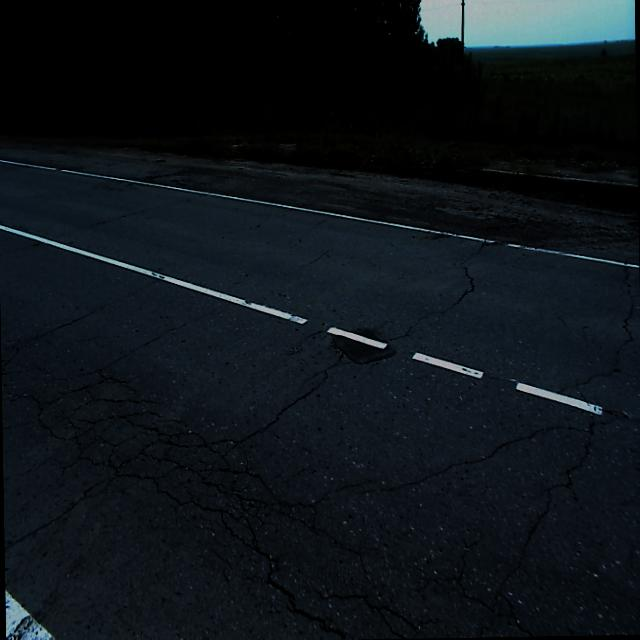road: (0, 154, 640, 640)
